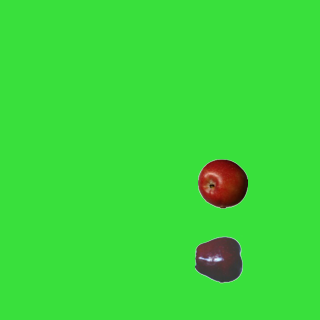Apple Braeburn: (197, 158, 247, 208)
Apple Red Delicious: (194, 234, 244, 284)
